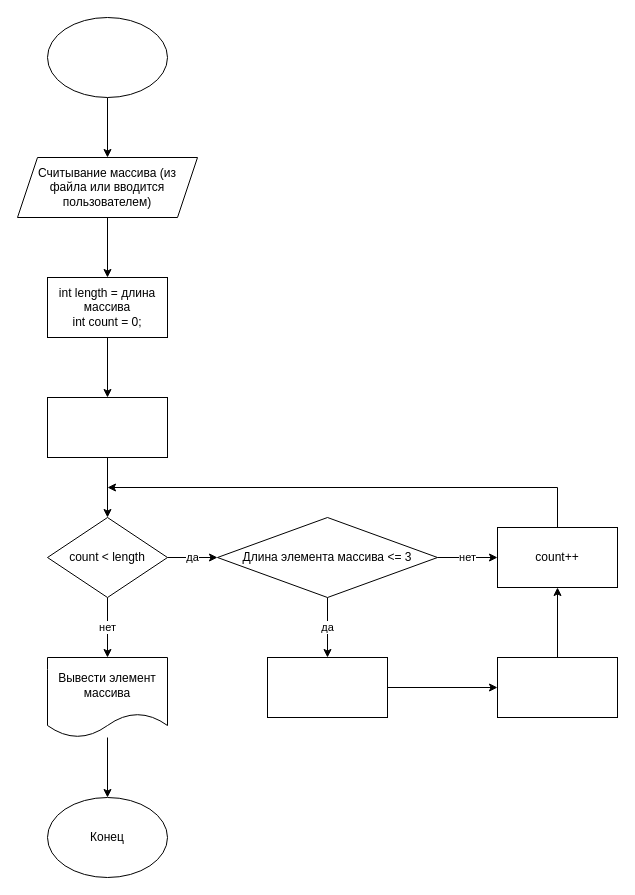
This 635x895 diagram has some shape labels left out. Here are the shapes that lost their labels. From the top down, the centre of each, then its label:
the point at 107,57: Начало
the point at 107,427: Создание пустого одномерного массива resultArray
the point at 327,687: Добавить элемент в resultArray
the point at 557,687: Увеличить длину resultArray
